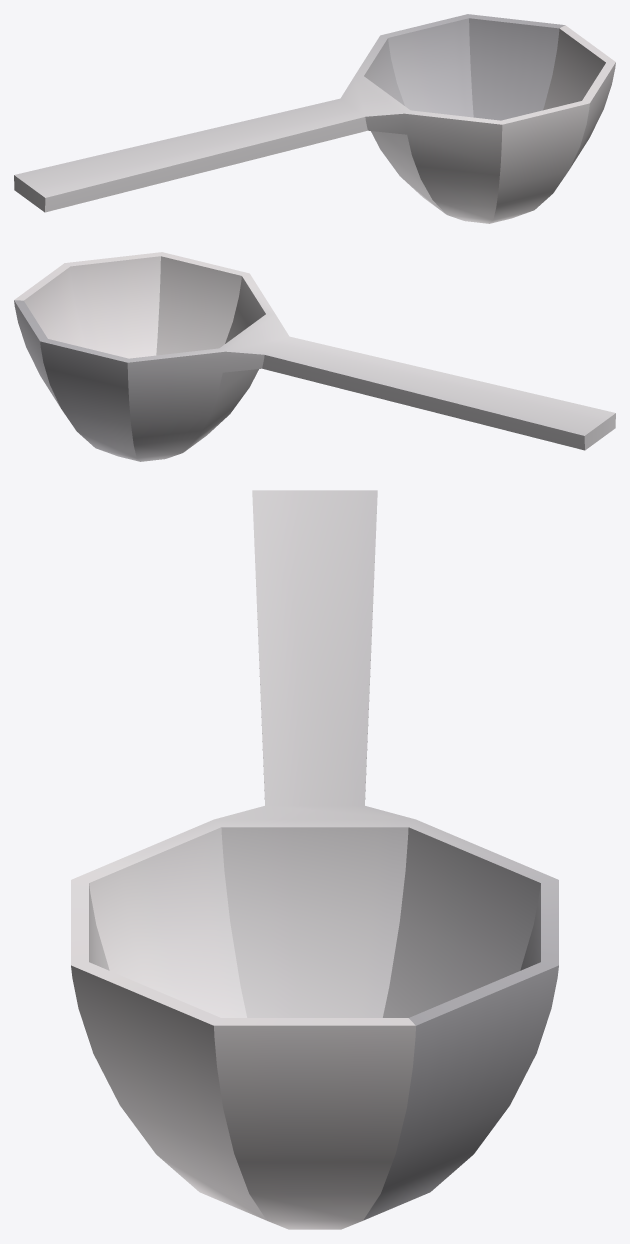
File: IceCreamCatcher.fbx
3 renders of one model, top to bottom at view 1: azimuth 30°, elevation 25°; view 2: azimuth 150°, elevation 25°; view 3: azimuth 270°, elevation 25°, orthographic. The views are drawn at different scales.
Parts seen in each view (by area): view 1: IceCreamCatcher; view 2: IceCreamCatcher; view 3: IceCreamCatcher.
Boxes of the visible parts, x1,y1,x2,y2 form: IceCreamCatcher: (14,14,615,223); IceCreamCatcher: (14,252,615,461); IceCreamCatcher: (71,490,558,1229).
Size of the model in its own units: 212 by 52.72 by 79.87.
